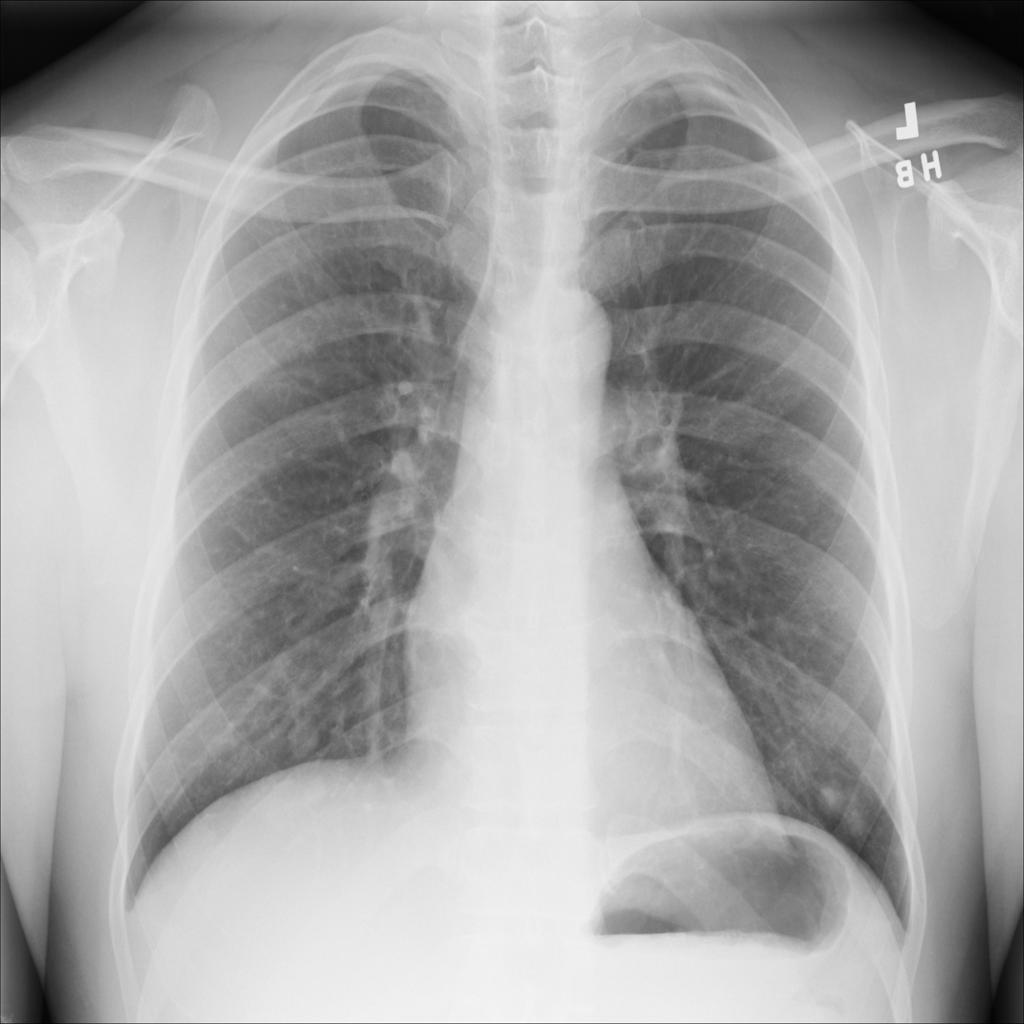nodule: (805, 762, 874, 842), (272, 694, 334, 775)
